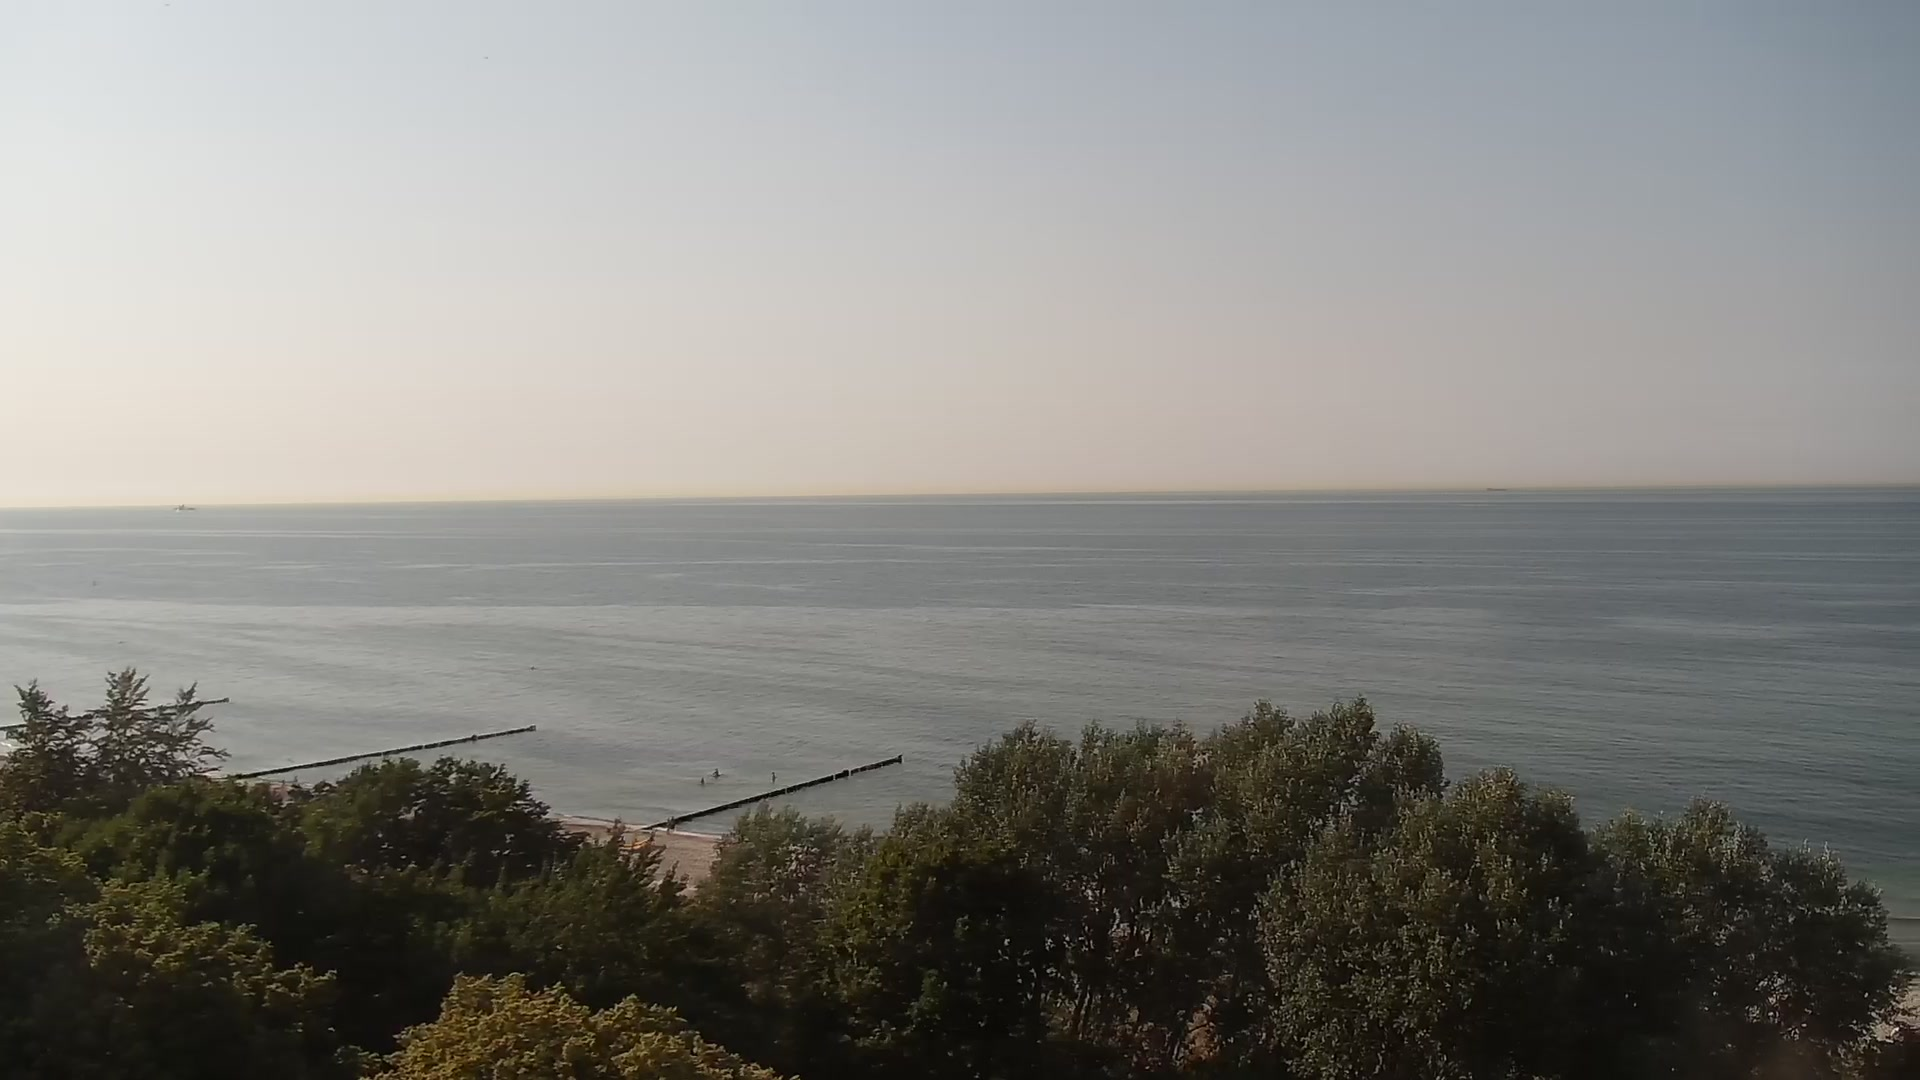human: (710, 767, 721, 778), (665, 816, 671, 832), (670, 815, 676, 830), (699, 776, 706, 787), (770, 771, 777, 783)
sea: (173, 503, 196, 511), (1485, 486, 1509, 492)
